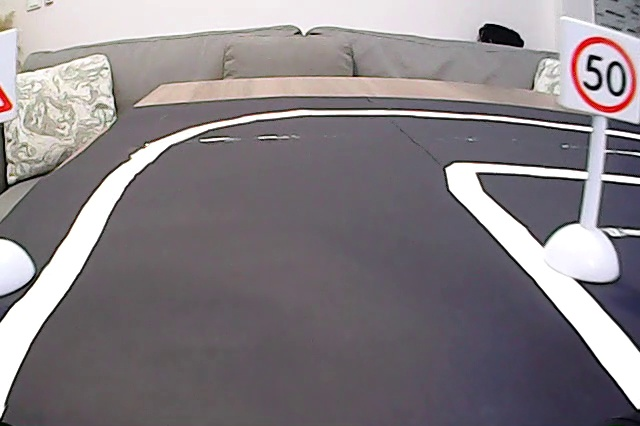speed limit 50: (565, 31, 640, 115)
